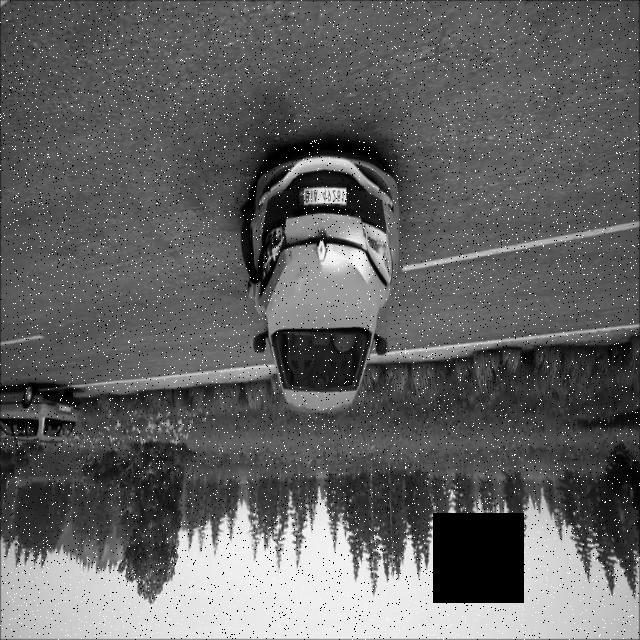moderate: (236, 140, 404, 418)
